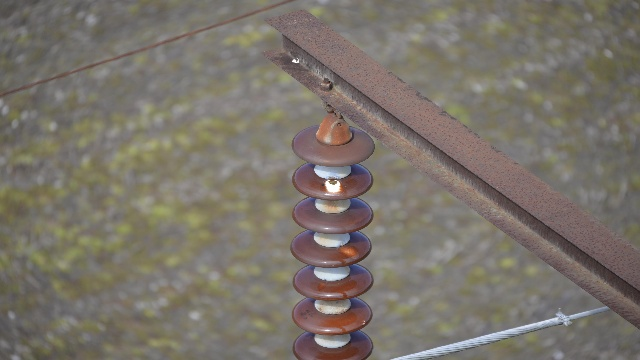insulator_unspecified: (290, 125, 374, 359)
pollution_flashover_local: (322, 177, 343, 196), (340, 243, 358, 259)
